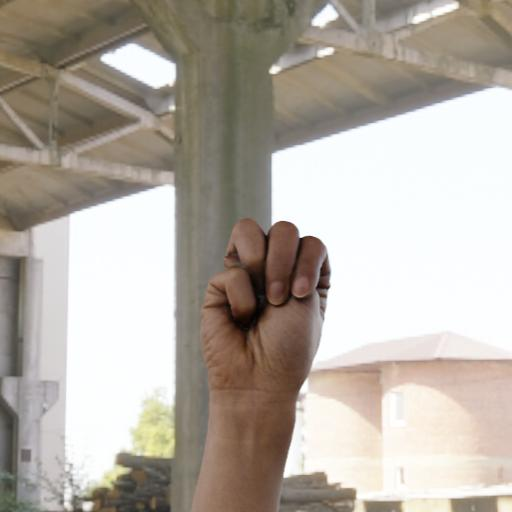M: (192, 204, 342, 431)
